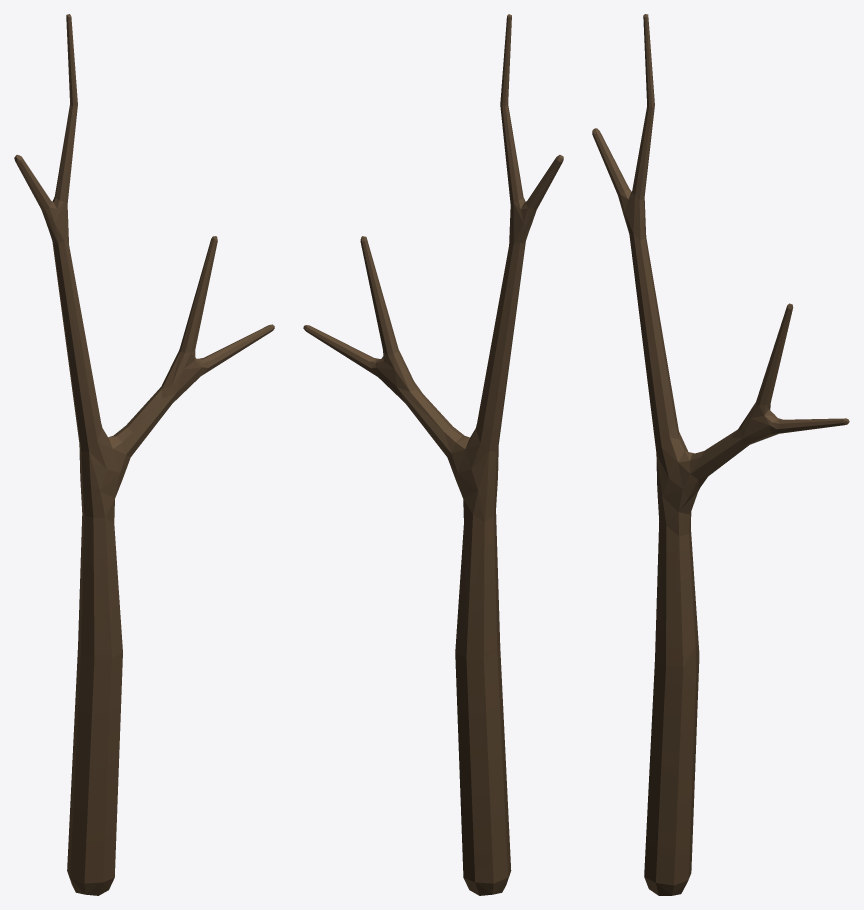
Rendered from Branch_03.fbx.
3 renders of one model, left to right at view 1: azimuth 30°, elevation 25°; view 2: azimuth 150°, elevation 25°; view 3: azimuth 330°, elevation 25°, orthographic.
Parts seen in each view (by area): view 1: Branch_03_LOD0; view 2: Branch_03_LOD0; view 3: Branch_03_LOD0.
Boxes of the visible parts, box(x1,y1,x2,y2) form: Branch_03_LOD0: box(14, 14, 274, 895); Branch_03_LOD0: box(303, 14, 563, 895); Branch_03_LOD0: box(592, 14, 849, 895).
Size of what is drawn, in the model's own units: 0.1545 by 0.5039 by 0.025.
